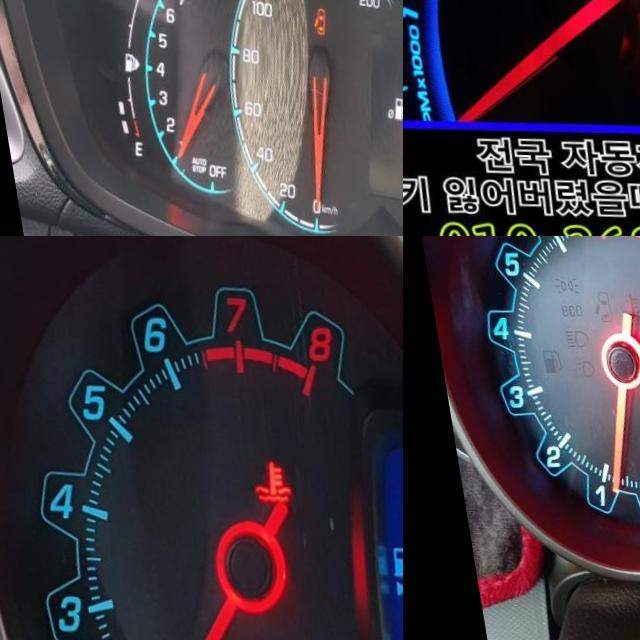Doors: (300, 8, 320, 38)
Engine cooling system: (236, 458, 283, 505)
